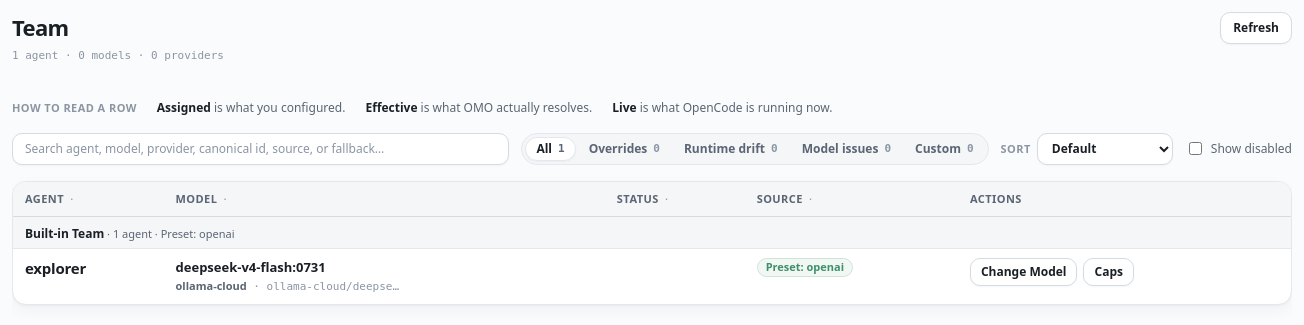
Test: agents assignment IA — source labels & disclosure › source button reveals path inline; never opens drawer or selects
Click the button "Preset: openai" at point(805, 268), box x1=757 y1=258 x2=853 y2=277
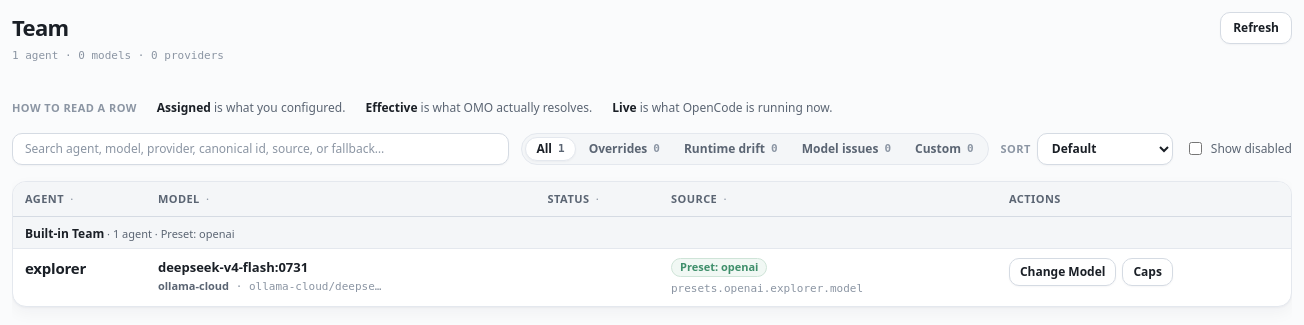
Now the row that starts with "explorer" shows "presets.openai.explorer.model", box x1=671 y1=282 x2=863 y2=295
Now the button "Preset: openai" is expanded, box x1=671 y1=258 x2=767 y2=277
